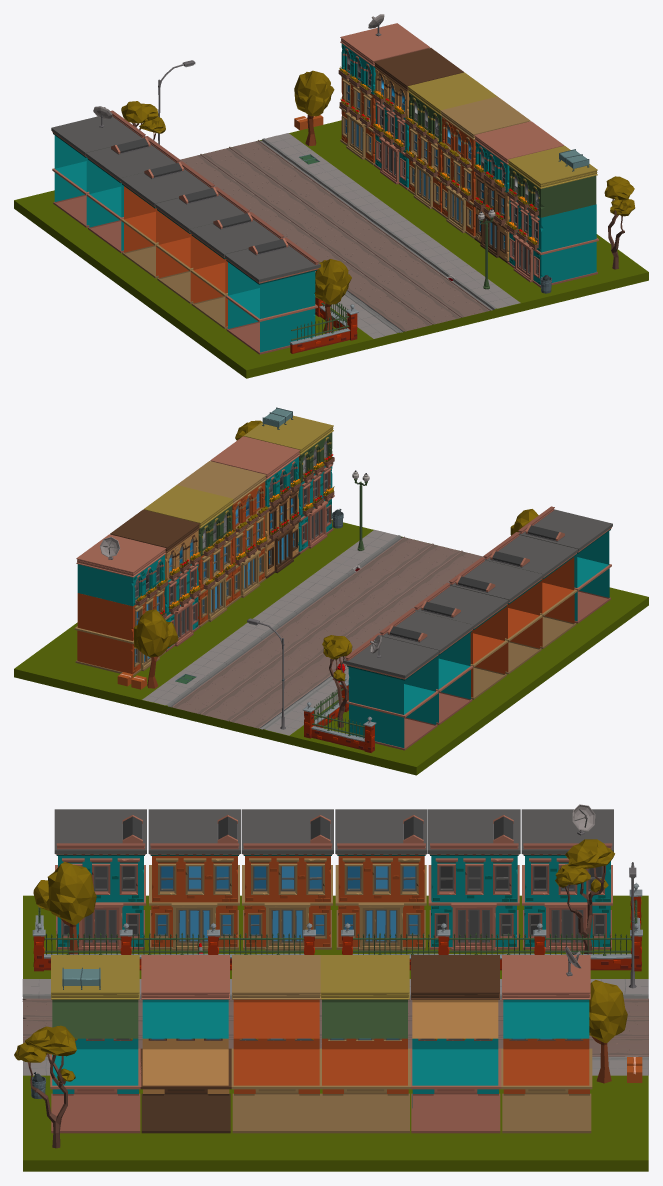
The model's file is House Area 8.fbx.
The picture shows the model from 3 angles, top to bottom: view 1: azimuth 30°, elevation 25°; view 2: azimuth 150°, elevation 25°; view 3: azimuth 270°, elevation 25°; orthographic projection. The views are drawn at different scales.
Visible parts, largest first — view 1: Plane.008, SM_Env_Path_Straight_01.006, SM_Prop_LightPole_Base_01.004, SM_Bld_Apartment_Roof_02.050, SM_Bld_Apartment_Roof_02.056, SM_Bld_Apartment_02.008, SM_Env_Fence_End_01.029, SM_Bld_Apartment_02.006, SM_Bld_Apartment_02.003, SM_Bld_Apartment_02.005, SM_Bld_Apartment_02.007, SM_Bld_Apartment_02.004 (+19 smaller); view 2: Plane.008, SM_Env_Path_Straight_01.006, SM_Prop_LightPole_Base_01.004, SM_Bld_Apartment_Roof_02.040, SM_Bld_Apartment_Roof_02.051, SM_Bld_Apartment_02.003, SM_Bld_Apartment_02.005, SM_Bld_Apartment_02.006, SM_Bld_Apartment_02.004, SM_Bld_Apartment_02.007, SM_Env_Fence_End_01.029, SM_Bld_Apartment_02.008 (+18 smaller); view 3: Plane.008, SM_Env_Fence_End_01.029, SM_Bld_Apartment_Roof_02.051, SM_Bld_Apartment_Roof_02.055, SM_Bld_Apartment_Roof_02.052, SM_Bld_Apartment_Roof_02.054, SM_Bld_Apartment_Roof_02.053, SM_Bld_Apartment_Roof_02.044, SM_Bld_Apartment_Roof_02.042, SM_Bld_Apartment_Roof_02.046, SM_Bld_Apartment_Roof_02.048, SM_Bld_Apartment_Roof_02.056 (+26 smaller).
Part boxes in pixels (x1,y1,x2,y2): Plane.008: [14, 120, 648, 378]; SM_Env_Path_Straight_01.006: [180, 140, 490, 331]; SM_Prop_LightPole_Base_01.004: [158, 60, 520, 338]; SM_Bld_Apartment_Roof_02.050: [225, 262, 317, 354]; SM_Bld_Apartment_Roof_02.056: [506, 198, 598, 287]; SM_Bld_Apartment_02.008: [507, 145, 597, 217]; SM_Env_Fence_End_01.029: [289, 259, 358, 353]; SM_Bld_Apartment_02.006: [440, 96, 530, 168]; SM_Bld_Apartment_02.003: [340, 23, 430, 94]; SM_Bld_Apartment_02.005: [407, 72, 497, 142]; SM_Bld_Apartment_02.007: [474, 121, 564, 192]; SM_Bld_Apartment_02.004: [374, 48, 463, 118]; Plane.008: [14, 519, 648, 775]; SM_Env_Path_Straight_01.006: [172, 536, 483, 729]; SM_Prop_LightPole_Base_01.004: [142, 470, 402, 735]; SM_Bld_Apartment_Roof_02.040: [346, 658, 438, 750]; SM_Bld_Apartment_Roof_02.051: [74, 587, 166, 676]; SM_Bld_Apartment_02.003: [76, 534, 166, 606]; SM_Bld_Apartment_02.005: [143, 485, 233, 556]; SM_Bld_Apartment_02.006: [177, 461, 266, 531]; SM_Bld_Apartment_02.004: [110, 509, 200, 580]; SM_Bld_Apartment_02.007: [210, 436, 300, 507]; SM_Env_Fence_End_01.029: [302, 509, 538, 752]; SM_Bld_Apartment_02.008: [244, 415, 333, 482]; Plane.008: [23, 895, 648, 1171]; SM_Env_Fence_End_01.029: [32, 862, 642, 971]; SM_Bld_Apartment_Roof_02.051: [501, 1038, 592, 1133]; SM_Bld_Apartment_Roof_02.055: [140, 1038, 231, 1133]; SM_Bld_Apartment_Roof_02.052: [410, 1038, 501, 1133]; SM_Bld_Apartment_Roof_02.054: [231, 1038, 322, 1133]; SM_Bld_Apartment_Roof_02.053: [320, 1038, 410, 1133]; SM_Bld_Apartment_Roof_02.044: [335, 856, 426, 950]; SM_Bld_Apartment_Roof_02.042: [428, 856, 519, 950]; SM_Bld_Apartment_Roof_02.046: [242, 856, 332, 950]; SM_Bld_Apartment_Roof_02.048: [149, 856, 239, 950]; SM_Bld_Apartment_Roof_02.056: [50, 1038, 141, 1133].
Size of the model in its own units: 10000 by 3194 by 10146.
